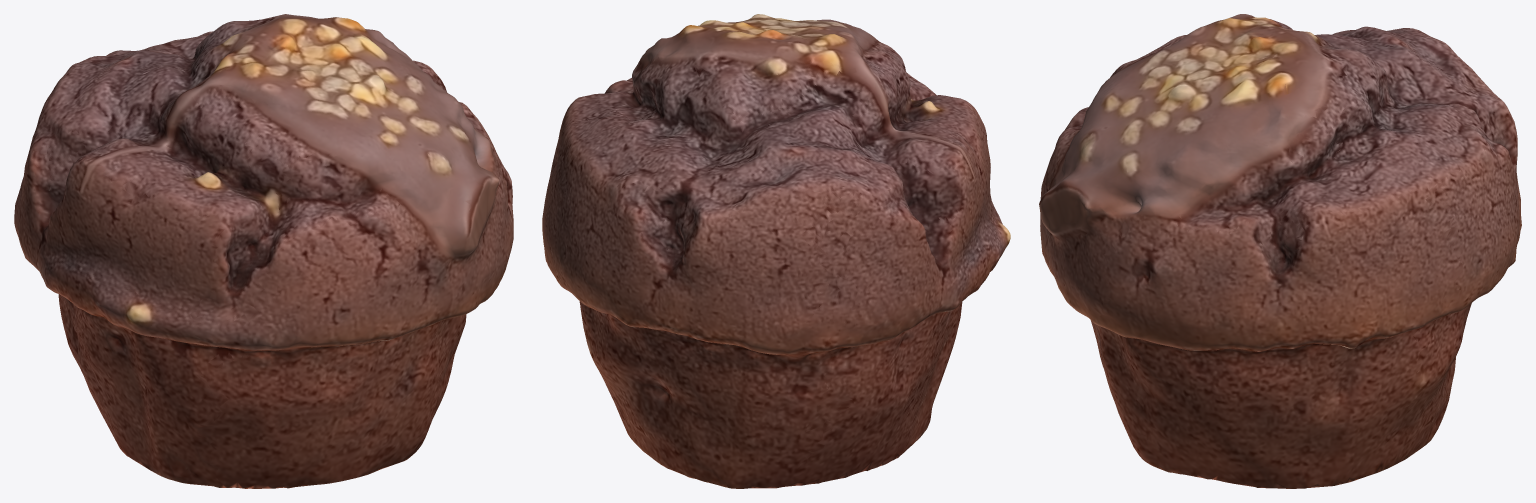
The model's file is muffin_23082.obj.
3 renders of one model, left to right at view 1: azimuth 30°, elevation 25°; view 2: azimuth 150°, elevation 25°; view 3: azimuth 270°, elevation 25°, orthographic. The views are drawn at different scales.
Size of the model in its own units: 14.22 by 13.01 by 14.4.
Materials: 1 (1 with a texture image).
